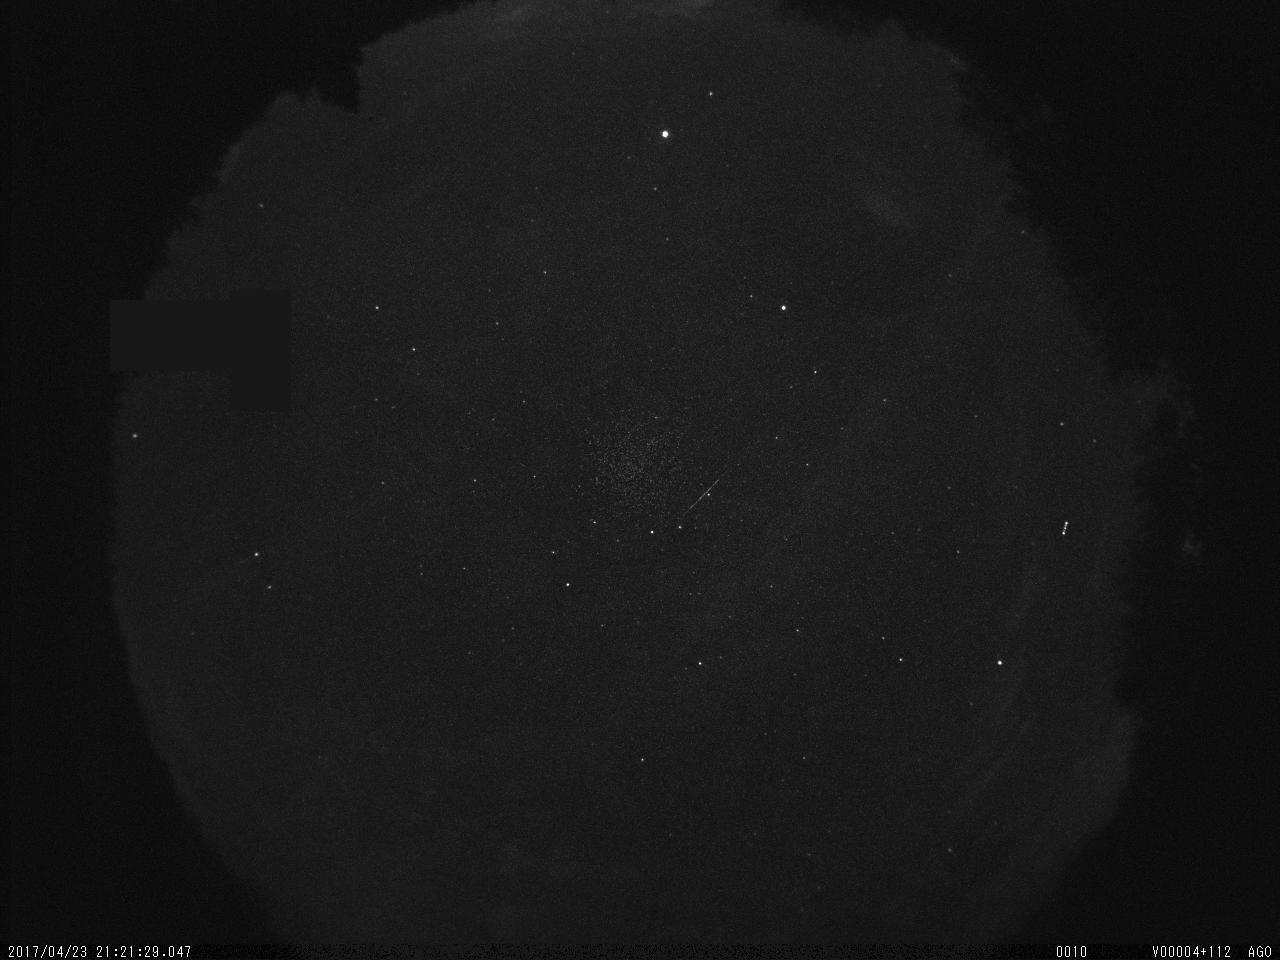meteor: (684, 471, 722, 516)
